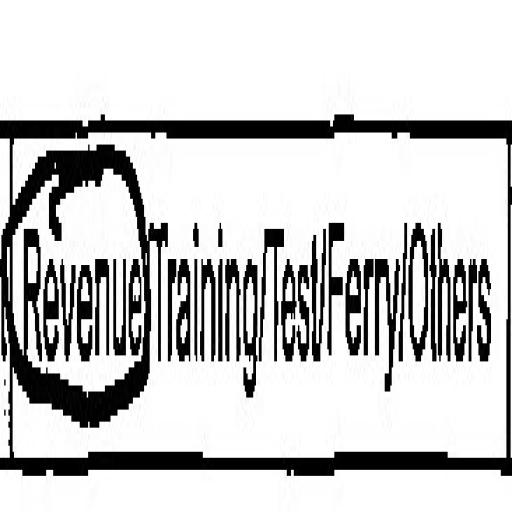check: (0, 18, 147, 512)
